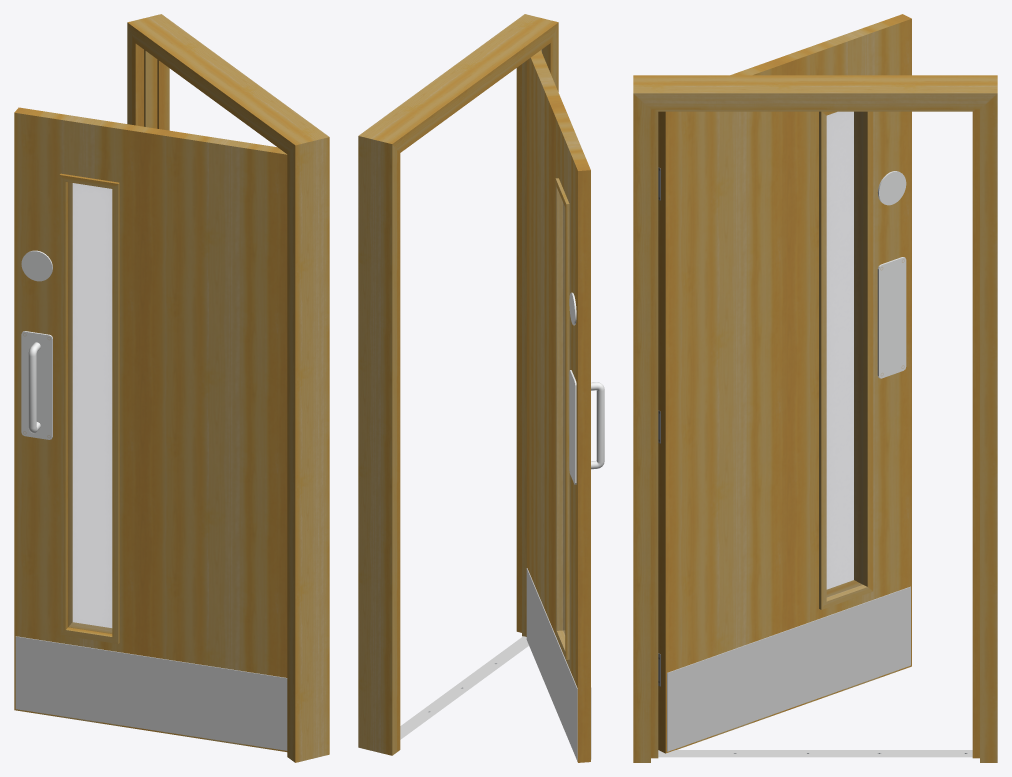
The picture shows the model from 3 angles, left to right: view 1: azimuth 30°, elevation 25°; view 2: azimuth 150°, elevation 25°; view 3: azimuth 270°, elevation 25°; orthographic projection. The views are drawn at different scales.
Parts seen in each view (by area): view 1: SM Office Door; view 2: SM Office Door; view 3: SM Office Door.
Part boxes in pixels (x1=…): SM Office Door: x1=14, y1=14, x2=329, y2=762; SM Office Door: x1=358, y1=14, x2=604, y2=762; SM Office Door: x1=633, y1=14, x2=997, y2=762.
Size of the model in its own units: 66.93 by 207 by 102.
2 materials, 2 textured.
